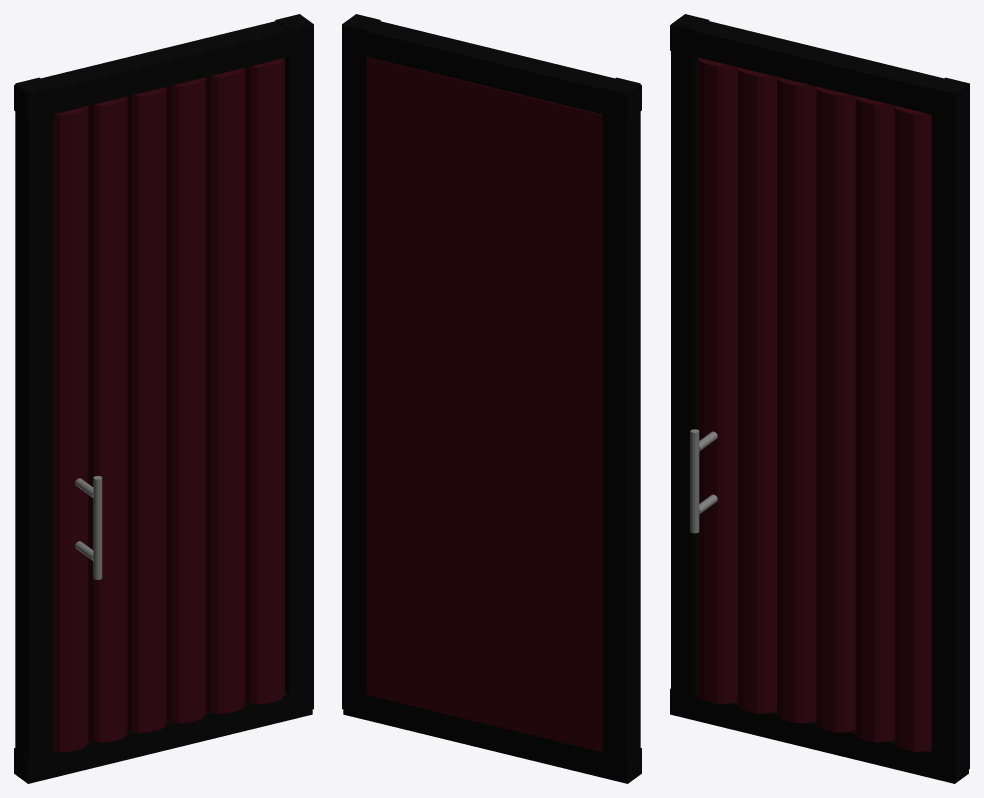
The model's file is Door.fbx.
3 views of the same model, side by side, from view 1: azimuth 30°, elevation 25°; view 2: azimuth 150°, elevation 25°; view 3: azimuth 330°, elevation 25° (orthographic).
Parts seen in each view (by area): view 1: Cube, Cube.001; view 2: Cube, Cube.001; view 3: Cube, Cube.001.
Part boxes in pixels (left/top/right/bottom): Cube: left=53, top=58, right=284, bottom=752; Cube.001: left=14, top=14, right=313, bottom=783; Cube: left=366, top=57, right=602, bottom=751; Cube.001: left=342, top=14, right=641, bottom=783; Cube: left=690, top=57, right=931, bottom=751; Cube.001: left=670, top=14, right=969, bottom=783.
Size of the model in its own units: 375 by 866 by 88.08.
